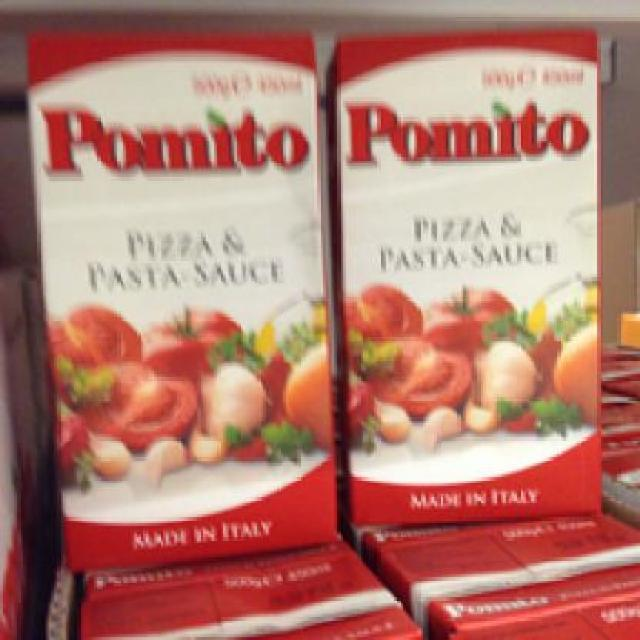Tomato Sauce: (20, 19, 337, 575), (326, 22, 608, 528)
